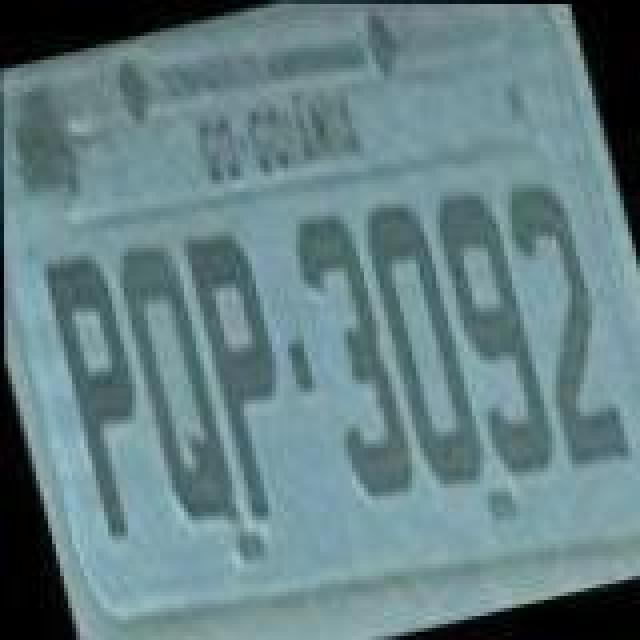2: (494, 172, 634, 476)
3: (282, 204, 422, 504)
9: (422, 178, 562, 482)
O: (354, 194, 494, 498)
P: (176, 220, 312, 520), (36, 246, 172, 538)
Q: (104, 236, 240, 532)
